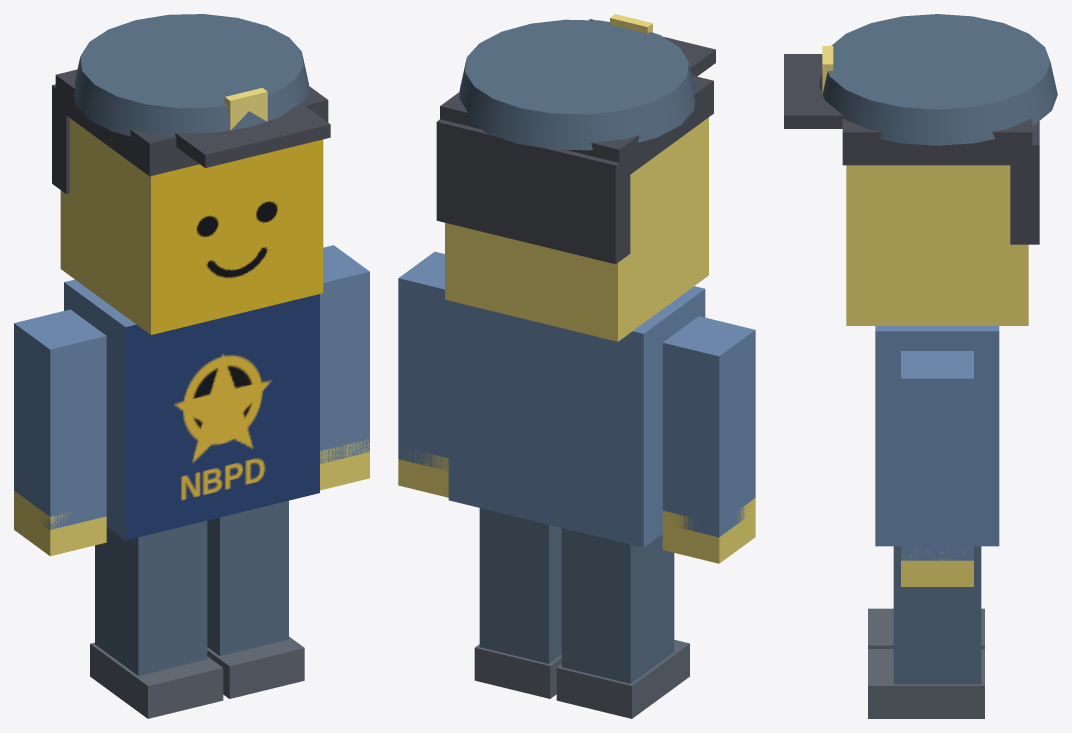
File: police.glb
3 views of the same model, side by side, from view 1: azimuth 30°, elevation 25°; view 2: azimuth 150°, elevation 25°; view 3: azimuth 270°, elevation 25° (orthographic).
Size of the model in its own units: 1.02 by 1.89 by 0.75.
11 materials, 2 textured.
